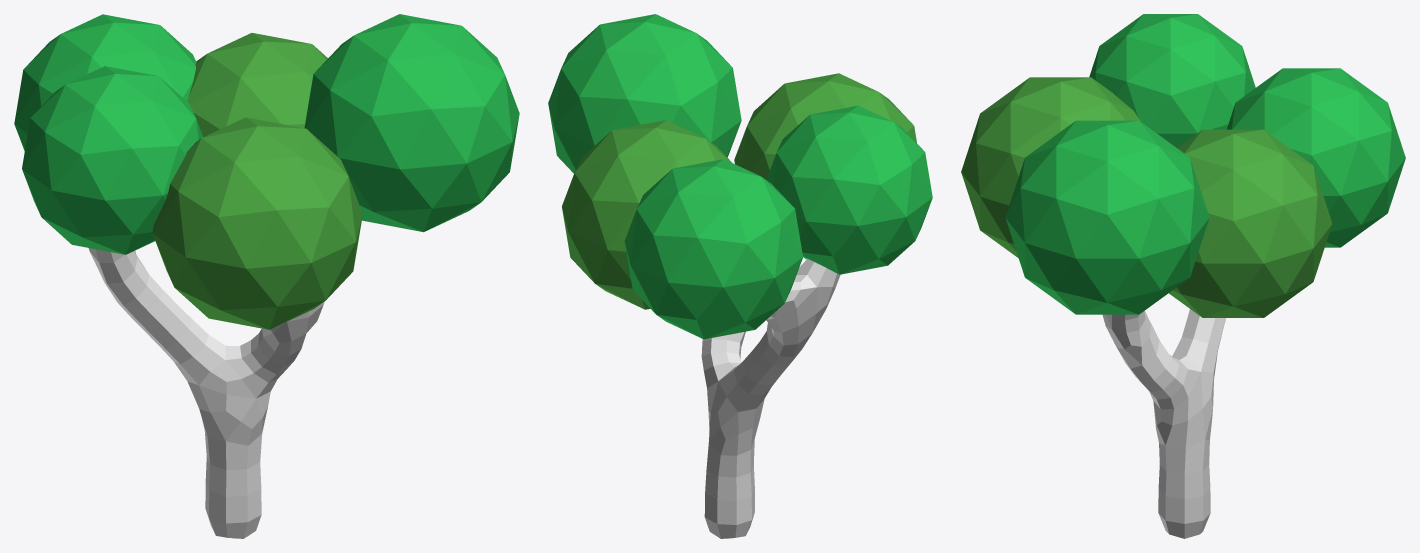
The model's file is Tree2.fbx.
3 renders of one model, left to right at view 1: azimuth 30°, elevation 25°; view 2: azimuth 150°, elevation 25°; view 3: azimuth 270°, elevation 25°, orthographic. The views are drawn at different scales.
Visible parts, largest first — view 1: Vert.001; view 2: Vert.001; view 3: Vert.001.
Part boxes in pixels (box(x1,y1,x2,y2)): Vert.001: box(14, 14, 519, 538); Vert.001: box(548, 14, 932, 538); Vert.001: box(961, 14, 1405, 538).
Bounding box in the file's own units: 278 × 315 × 268.
